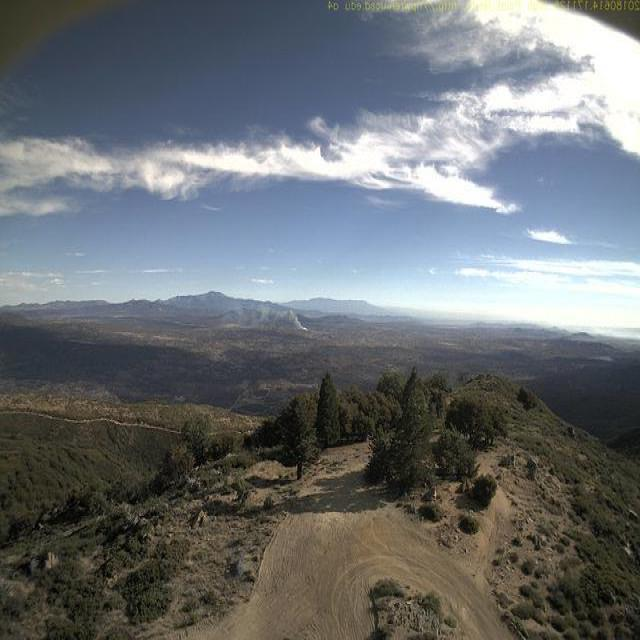Smoke: (221, 296, 315, 335)
